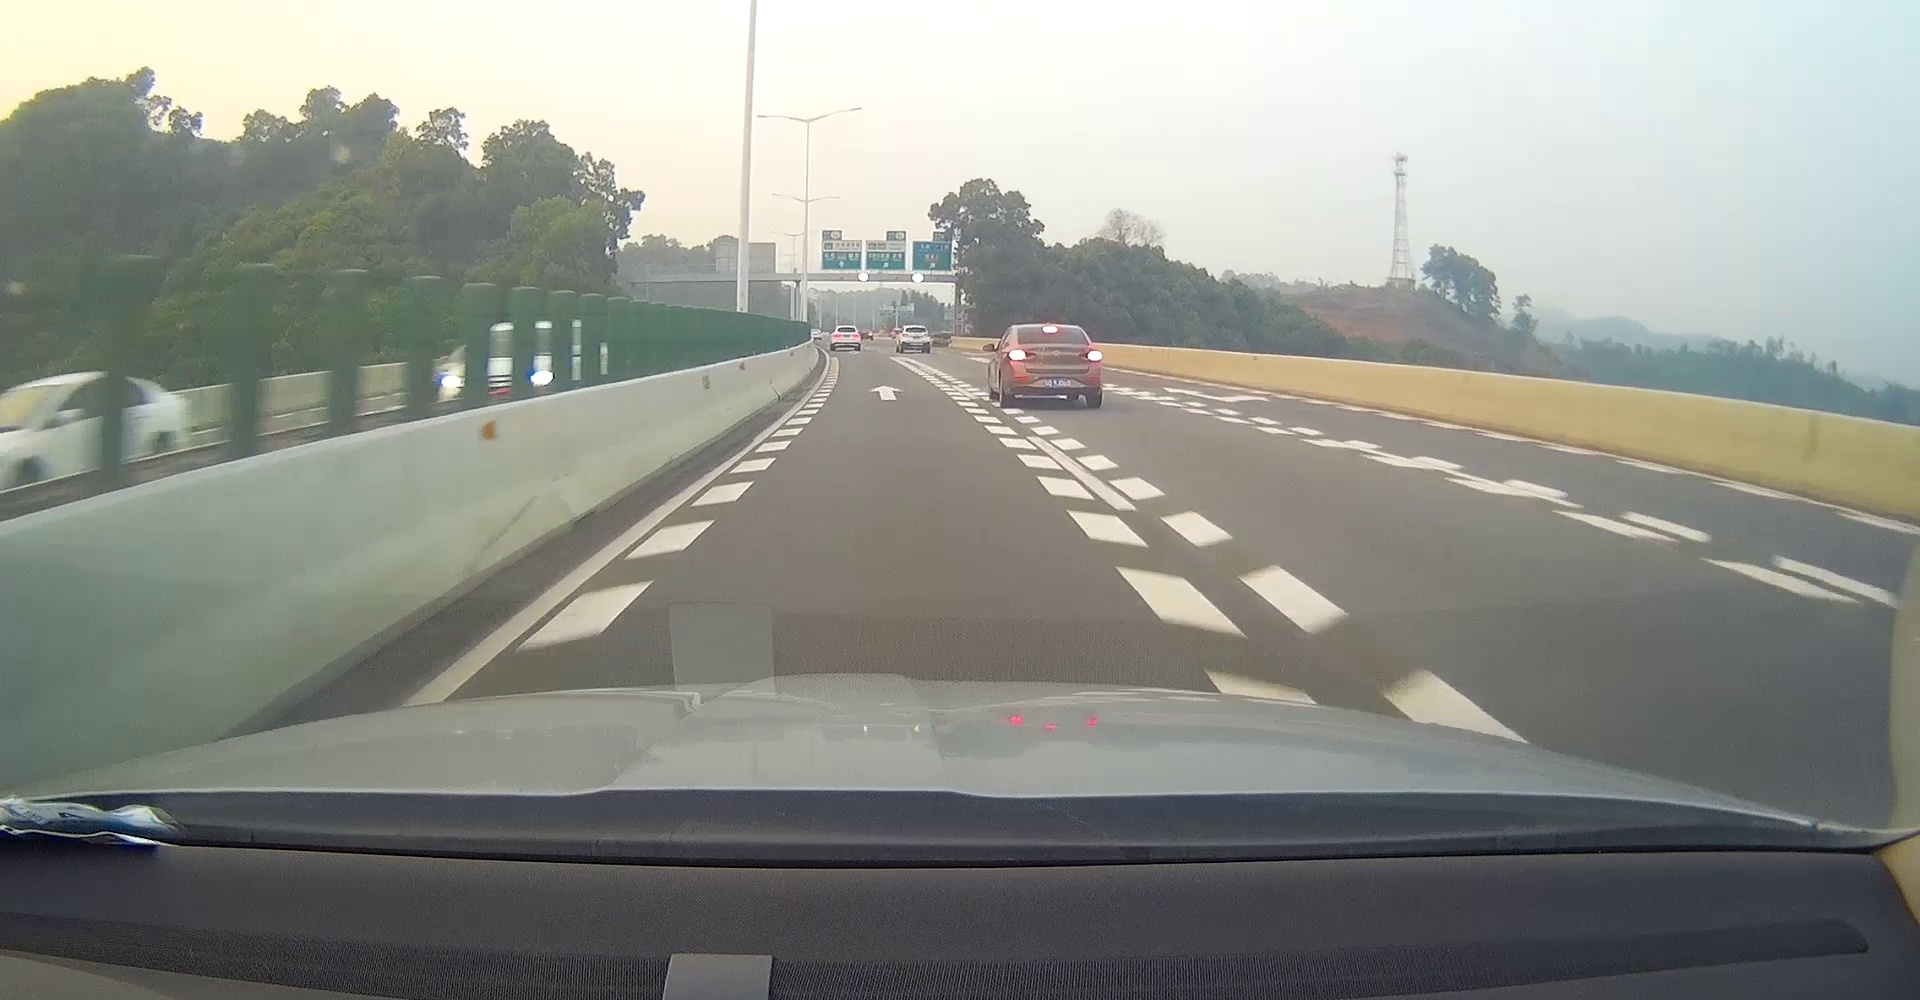L_light: (1007, 349, 1037, 360), (833, 334, 841, 338), (902, 334, 908, 336)
R_light: (1079, 348, 1102, 360), (852, 334, 860, 338), (923, 334, 930, 336)
T_light: (1043, 327, 1058, 332), (913, 327, 919, 329), (844, 327, 850, 329)
day-brake: (1004, 324, 1103, 409), (832, 326, 861, 352)
day-no: (899, 325, 930, 353)
